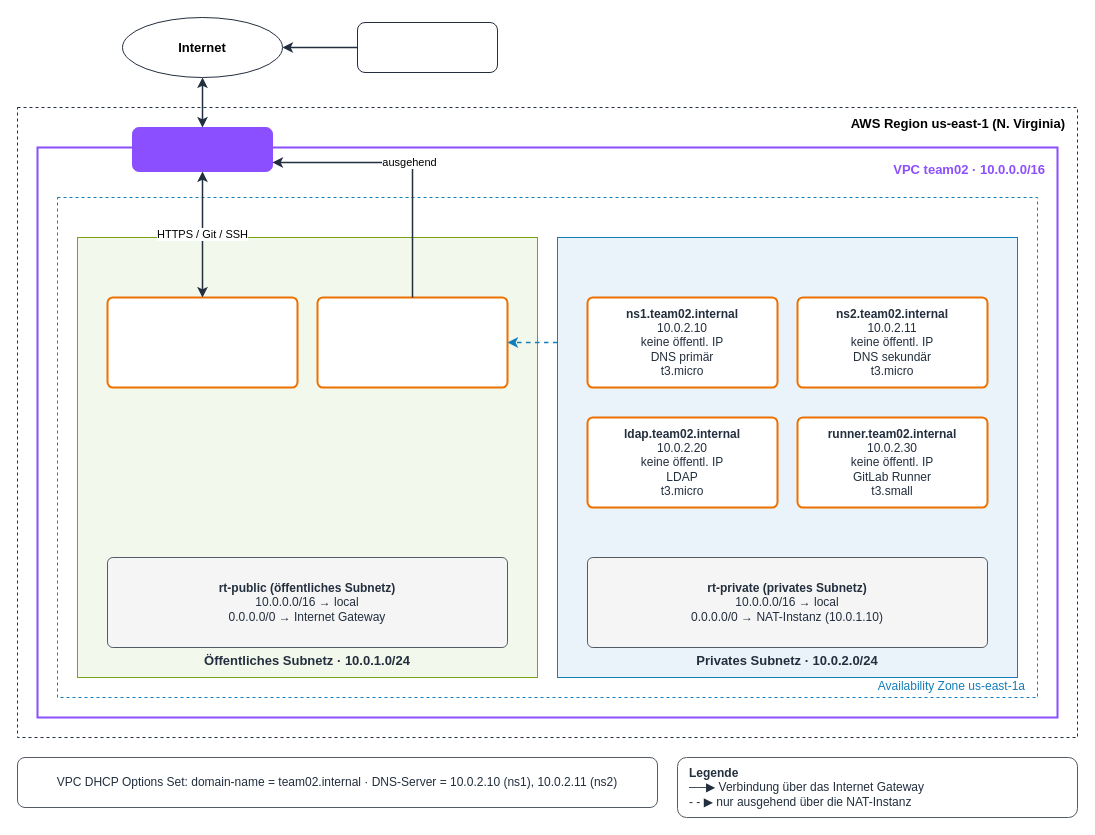
Some shapes in this 1095 by 835 pixel diagram are drawn without their labels. The centre of each missing label's shape, as x and y in pixels:
"gitlab.team02.internal 10.0.1.20 Elastic IP GitLab CE + Registry t3.medium" goes at pixel 202 342.
"Internet Gateway" goes at pixel 202 149.
"Laptop (Team)" goes at pixel 427 47.
"nat.team02.internal 10.0.1.10 öffentl. IP (automatisch) NAT-Instanz t3.nano" goes at pixel 412 342.
